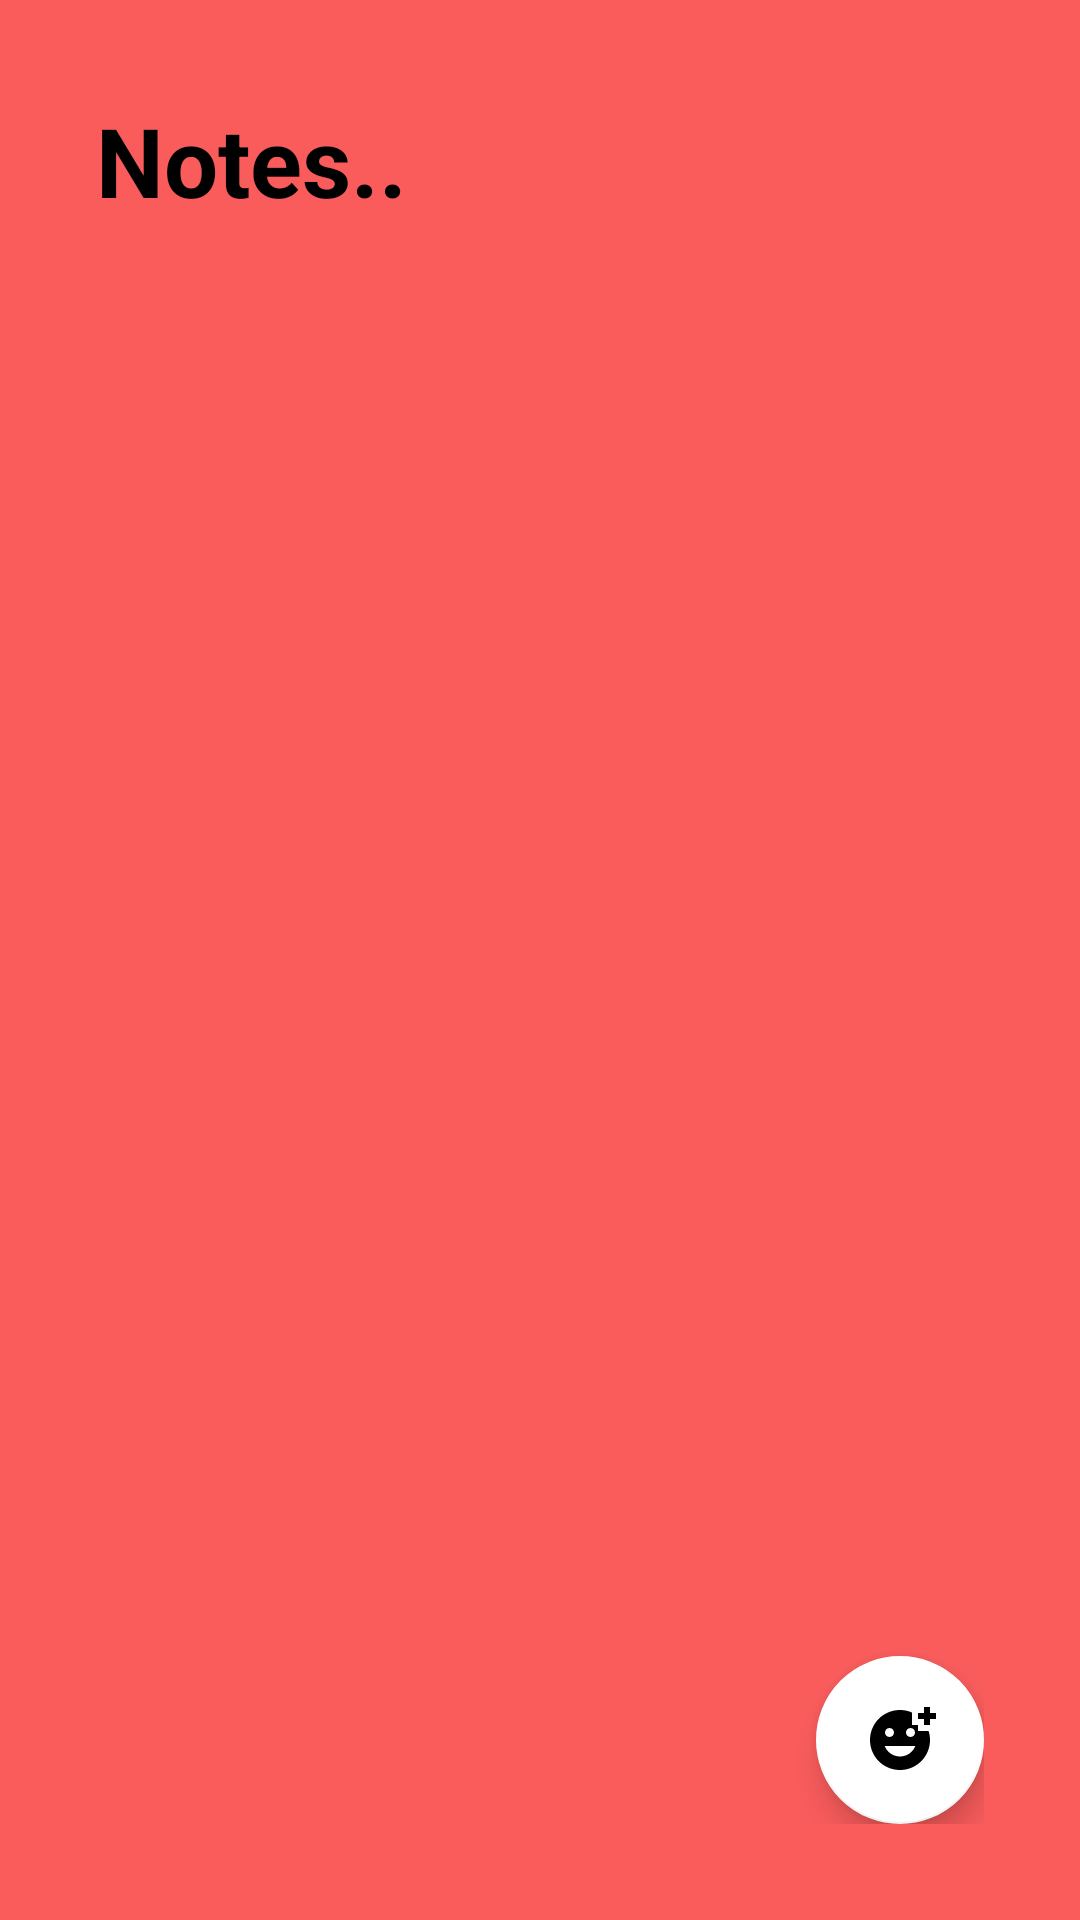

Locate icon controls on the screen. Image size 1080 x 1920, boxes as (left=x1, top=y1, right=x2, bottom=y2).
add reaction: (left=816, top=1656, right=984, bottom=1824)
